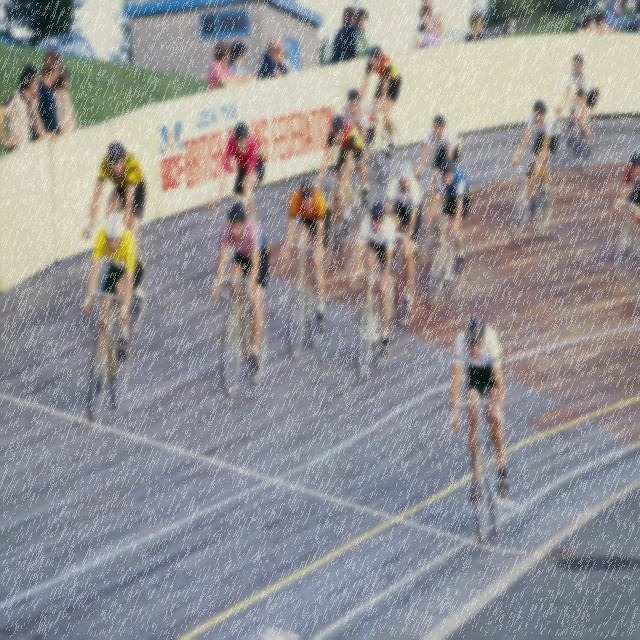pessoa: (448, 312, 512, 506), (80, 209, 146, 397), (208, 200, 272, 378), (347, 198, 399, 362), (378, 154, 426, 328), (278, 179, 332, 332), (81, 141, 148, 242), (316, 114, 365, 250), (511, 99, 562, 222), (412, 108, 462, 230), (424, 156, 474, 278), (208, 120, 266, 222), (552, 51, 600, 162), (358, 43, 402, 158), (339, 86, 376, 206), (0, 64, 45, 154), (31, 49, 62, 141), (614, 152, 640, 250), (52, 66, 80, 136), (208, 38, 242, 92), (330, 5, 360, 64), (596, 0, 640, 35), (255, 36, 288, 78), (227, 38, 254, 86), (267, 35, 296, 74), (418, 11, 446, 48), (354, 6, 370, 58), (414, 3, 434, 42), (588, 8, 614, 36), (464, 9, 485, 42), (418, 1, 436, 32), (576, 12, 596, 34)
